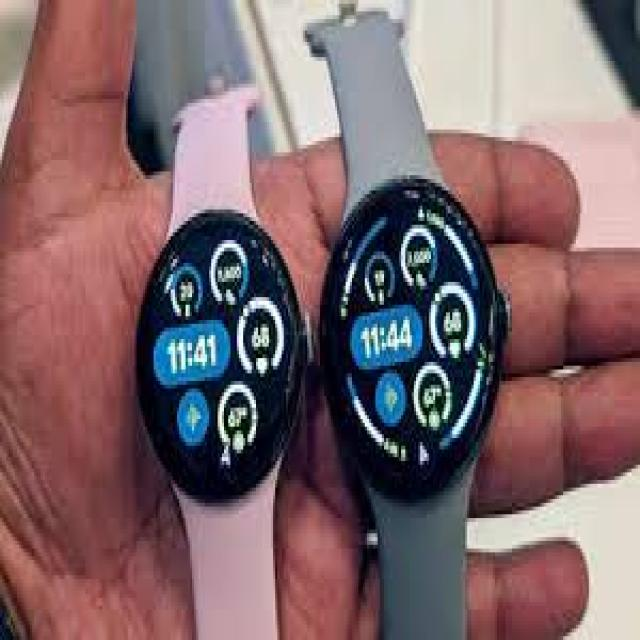objects: (307, 11, 503, 636), (137, 88, 297, 636)
